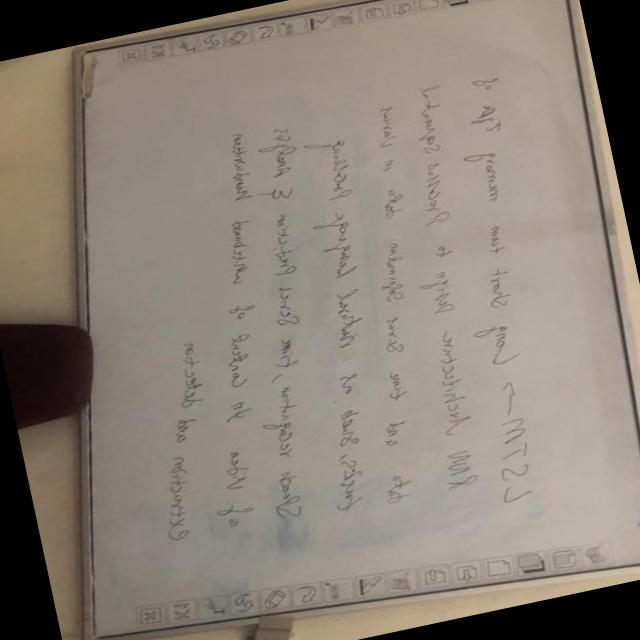White-board: (80, 0, 640, 640)
